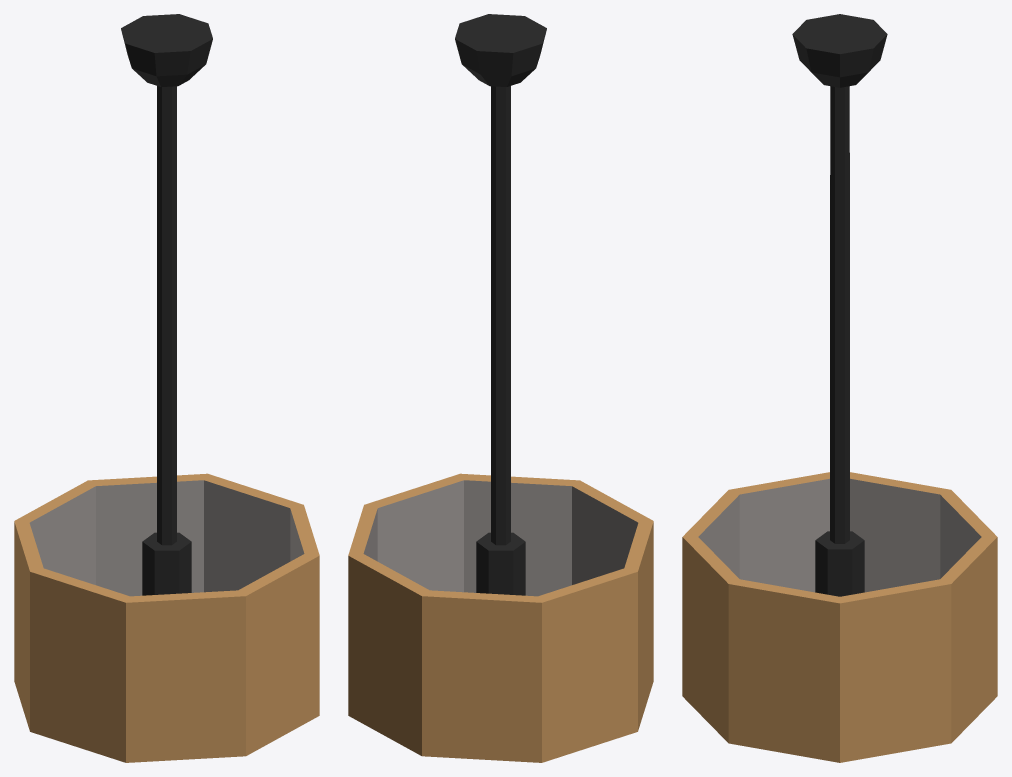
The model's file is furniture-light-shade-ceiling.glb.
3 renders of one model, left to right at view 1: azimuth 30°, elevation 25°; view 2: azimuth 150°, elevation 25°; view 3: azimuth 270°, elevation 25°, orthographic.
Visible parts, largest first — view 1: light-shade-ceiling; view 2: light-shade-ceiling; view 3: light-shade-ceiling.
Part boxes in pixels (x1,y1,x2,y2): light-shade-ceiling: (14,14,319,762); light-shade-ceiling: (348,14,653,762); light-shade-ceiling: (682,14,997,762).
Bounding box in the file's own units: 0.43 × 0.9974 × 0.43.
